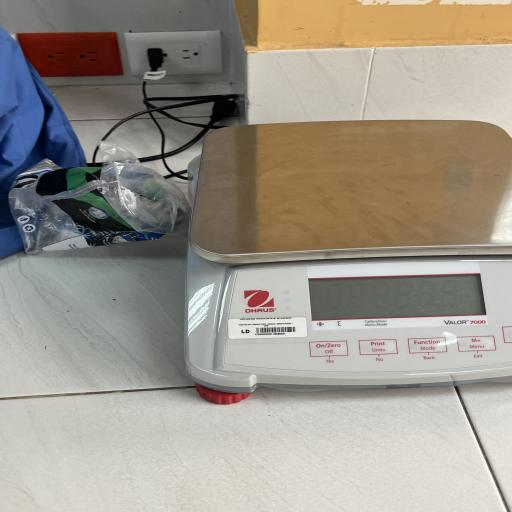Balanza_Granataria_Ohaus: (162, 112, 512, 411)
